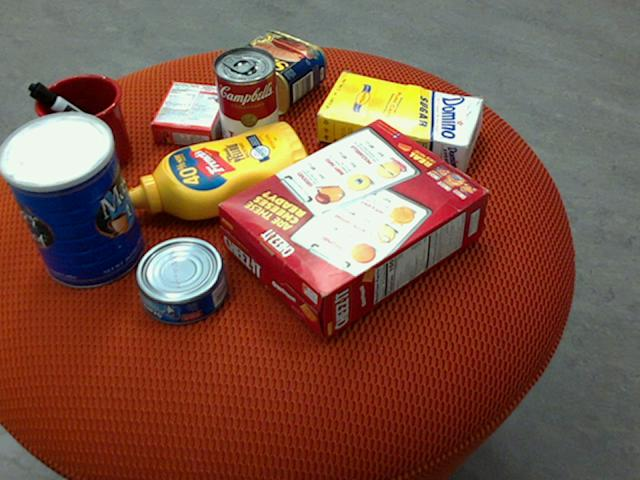cracker_box: (218, 117, 490, 338)
gelatin_box: (150, 80, 233, 146)
large_marker: (28, 82, 128, 154)
master_chef_can: (0, 111, 144, 288)
mug: (24, 74, 131, 176)
mustard_bottle: (124, 121, 313, 220)
potted_meat_can: (221, 30, 327, 114)
sugar_box: (316, 72, 485, 170)
tomato_soup_can: (213, 45, 280, 154)
tuna_fish_can: (135, 237, 229, 325)
